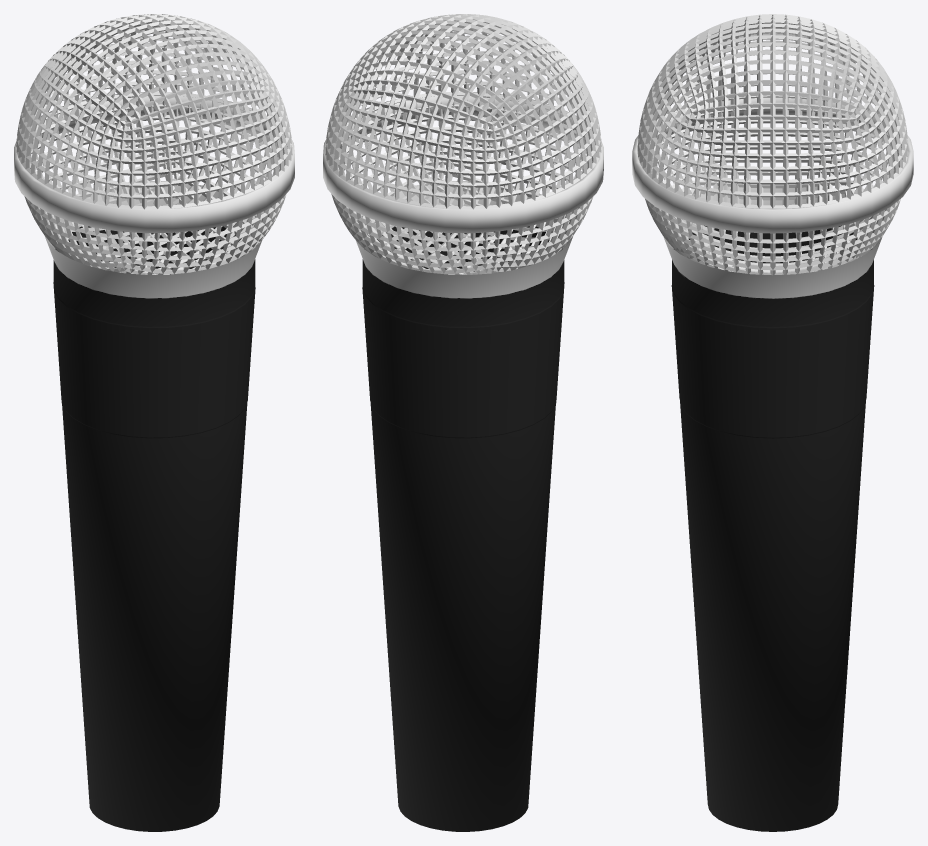
File: Microphone.fbx
3 views of the same model, side by side, from view 1: azimuth 30°, elevation 25°; view 2: azimuth 150°, elevation 25°; view 3: azimuth 270°, elevation 25° (orthographic).
Parts seen in each view (by area): view 1: Circle.001, Cube, Circle; view 2: Circle.001, Cube, Circle; view 3: Circle.001, Cube, Circle.
Part boxes in pixels (left/top/right/bottom): Circle.001: left=44, top=181, right=262, bottom=831; Cube: left=16, top=14, right=292, bottom=274; Circle: left=14, top=92, right=294, bottom=233; Circle.001: left=355, top=181, right=573, bottom=831; Cube: left=325, top=14, right=601, bottom=274; Circle: left=323, top=92, right=603, bottom=233; Circle.001: left=663, top=186, right=882, bottom=831; Cube: left=637, top=14, right=908, bottom=275; Circle: left=632, top=97, right=913, bottom=233.
Size of the model in its own units: 155 by 472 by 155.
